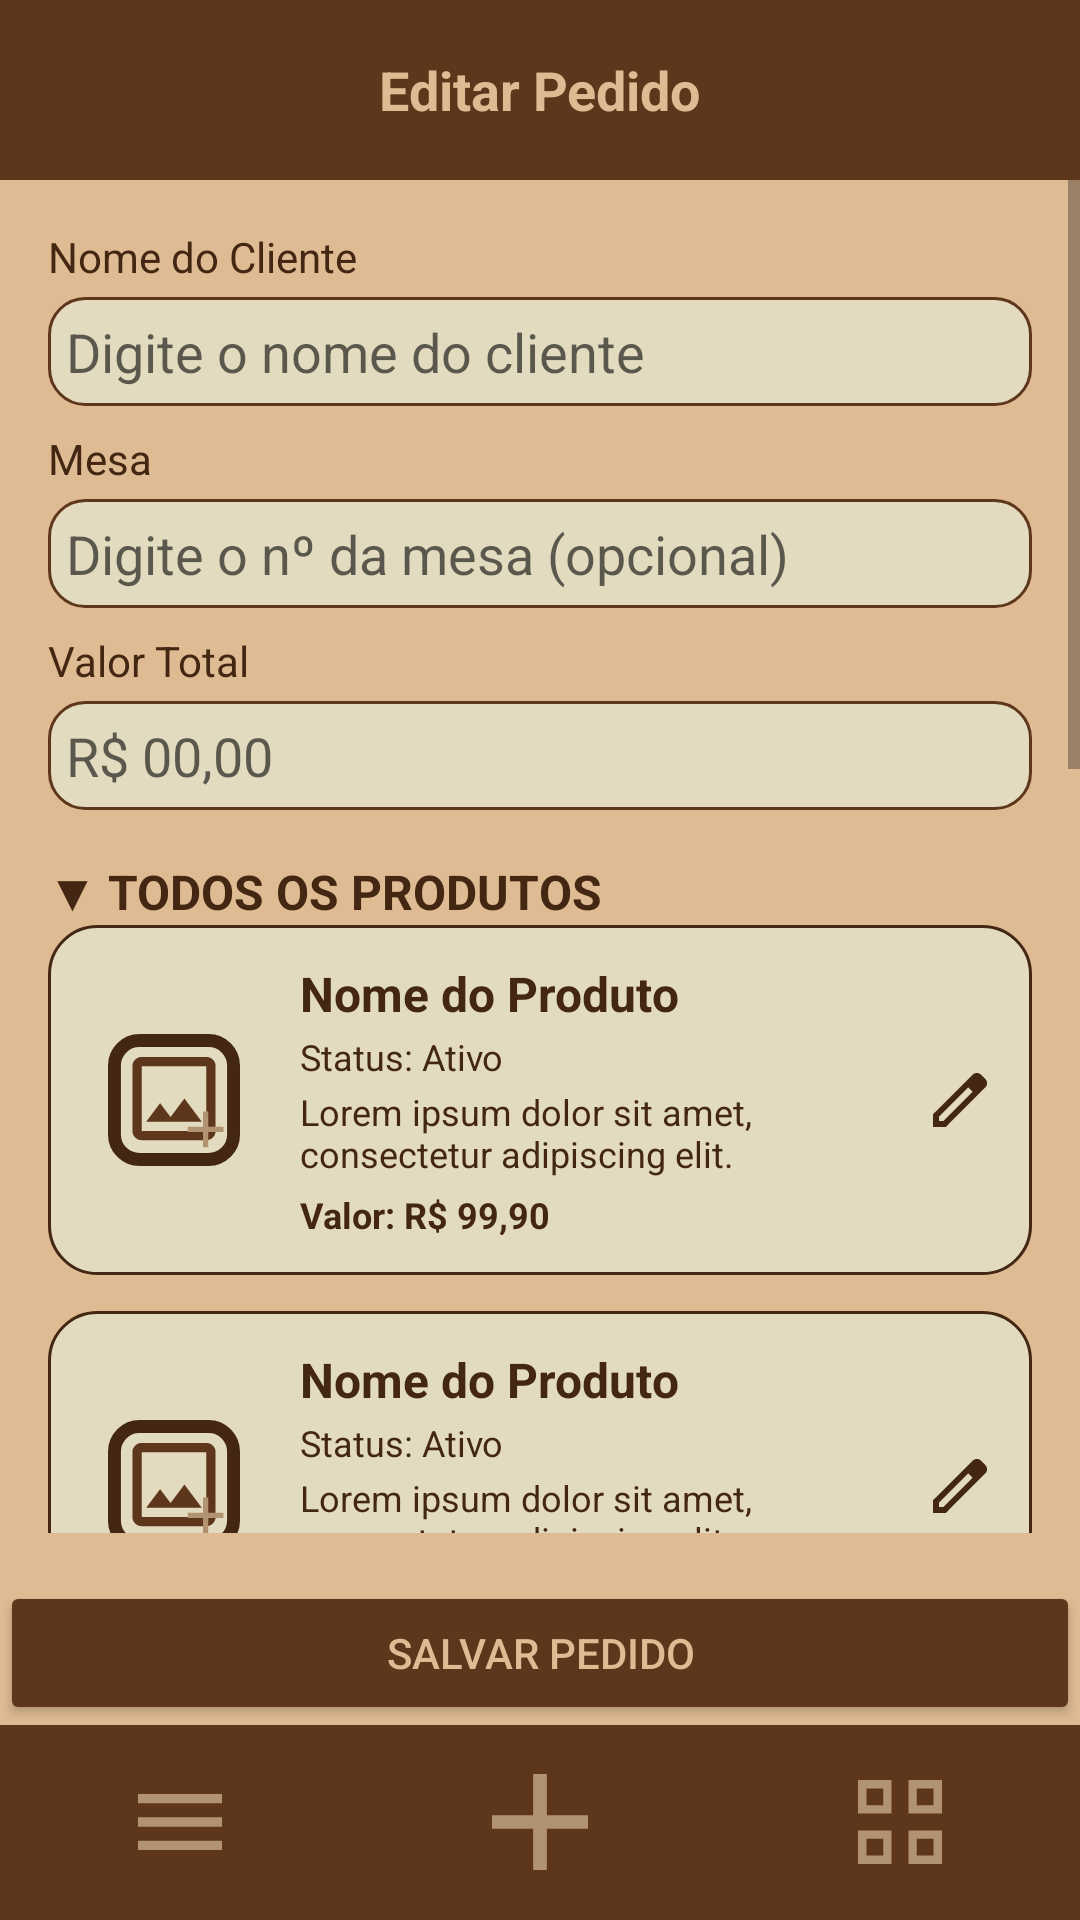

Icons on this 1080*1920 Android screen, each with its box as (x1, y1, x2, y2):
Editar: (933, 1073, 987, 1127), (933, 1459, 987, 1513)
novo: (492, 1774, 588, 1870)
